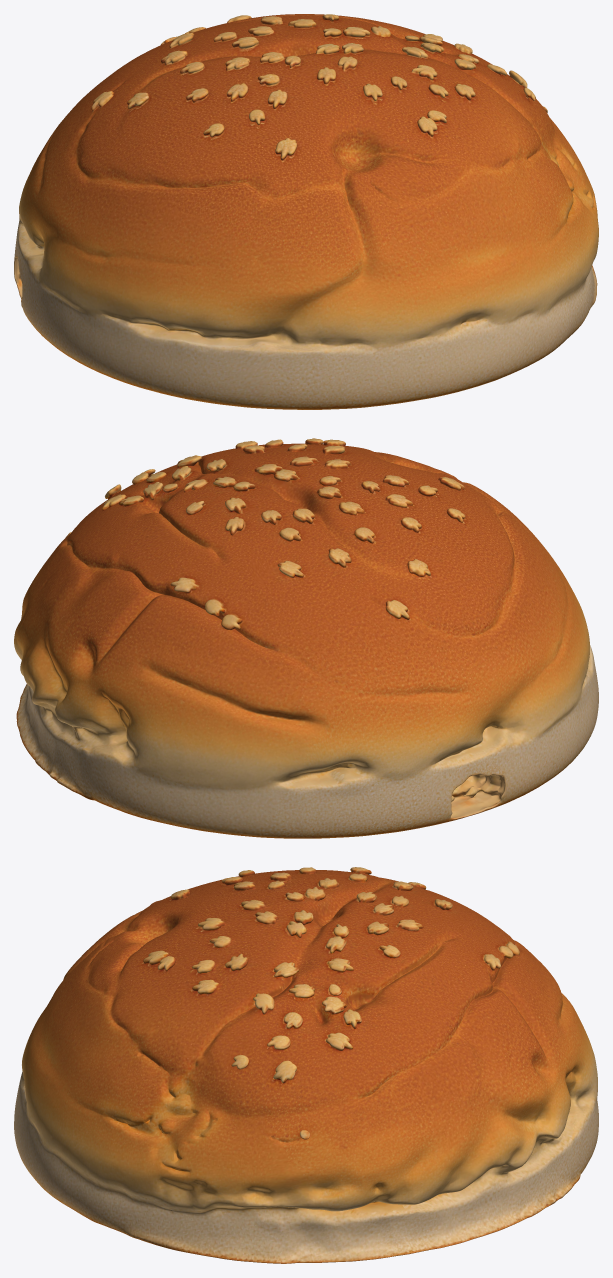
Rendered from top.glb.
3 renders of one model, top to bottom at view 1: azimuth 30°, elevation 25°; view 2: azimuth 150°, elevation 25°; view 3: azimuth 270°, elevation 25°, orthographic.
Visible parts, largest first — view 1: tripo_node_1c2e1f25-5dc6-4aee-aeea-1ff4188a7258; view 2: tripo_node_1c2e1f25-5dc6-4aee-aeea-1ff4188a7258; view 3: tripo_node_1c2e1f25-5dc6-4aee-aeea-1ff4188a7258.
Part boxes in pixels (x1,y1,x2,y2): tripo_node_1c2e1f25-5dc6-4aee-aeea-1ff4188a7258: (14, 14, 598, 409); tripo_node_1c2e1f25-5dc6-4aee-aeea-1ff4188a7258: (14, 438, 598, 838); tripo_node_1c2e1f25-5dc6-4aee-aeea-1ff4188a7258: (14, 867, 598, 1263).
Size of the model in its own units: 1 by 0.4536 by 1.01.
1 material, 1 textured.
